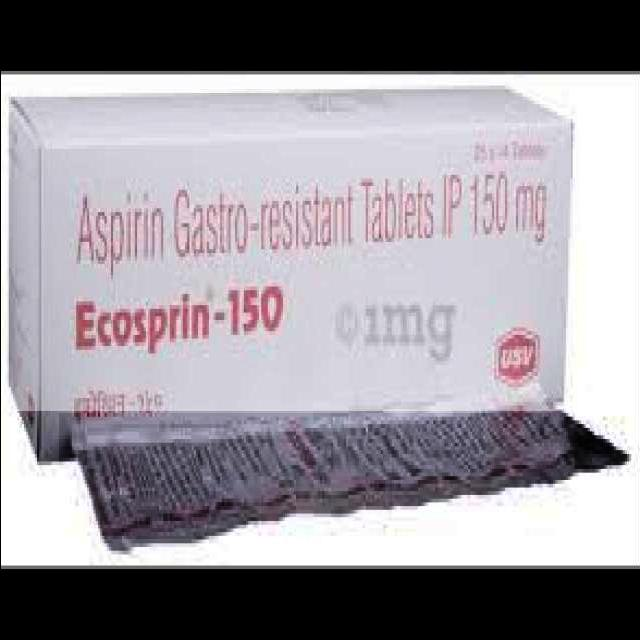authentic: (0, 76, 571, 411), (59, 413, 636, 539)
